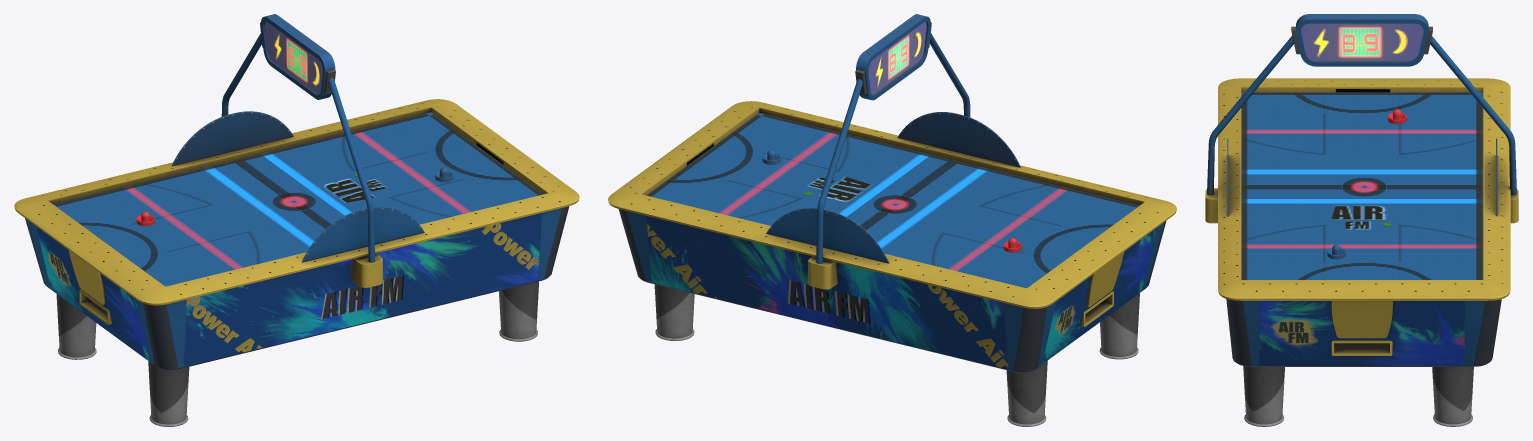
The model's file is SM_Air_Hockey_01.fbx.
The picture shows the model from 3 angles, left to right: view 1: azimuth 30°, elevation 25°; view 2: azimuth 150°, elevation 25°; view 3: azimuth 270°, elevation 25°; orthographic projection. The views are drawn at different scales.
Visible parts, largest first — view 1: SM_Air_Hockey_01_LOD0; view 2: SM_Air_Hockey_01_LOD0; view 3: SM_Air_Hockey_01_LOD0.
Boxes of the visible parts, x1,y1,x2,y2 form: SM_Air_Hockey_01_LOD0: [14, 14, 579, 426]; SM_Air_Hockey_01_LOD0: [608, 14, 1176, 426]; SM_Air_Hockey_01_LOD0: [1205, 14, 1518, 426].
Size of the model in its own units: 283 by 170 by 189.
1 material, 1 textured.
